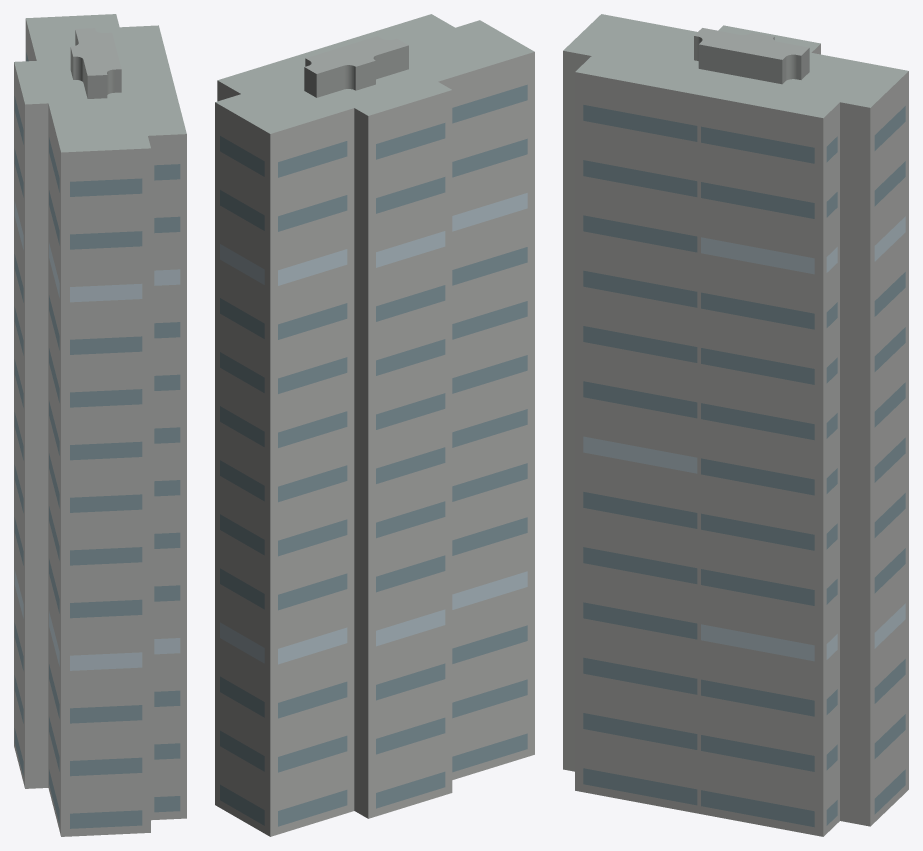
The model's file is fallback-banpo-xi-107.glb.
3 renders of one model, left to right at view 1: azimuth 30°, elevation 25°; view 2: azimuth 150°, elevation 25°; view 3: azimuth 270°, elevation 25°, orthographic. The views are drawn at different scales.
Visible parts, largest first — view 1: fallback-banpo-xi-107; view 2: fallback-banpo-xi-107; view 3: fallback-banpo-xi-107.
Boxes of the visible parts, x1,y1,x2,y2 form: fallback-banpo-xi-107: (14,14,186,836); fallback-banpo-xi-107: (215,14,534,836); fallback-banpo-xi-107: (563,14,908,836).
Size of the model in its own units: 21.96 by 73 by 30.8.
